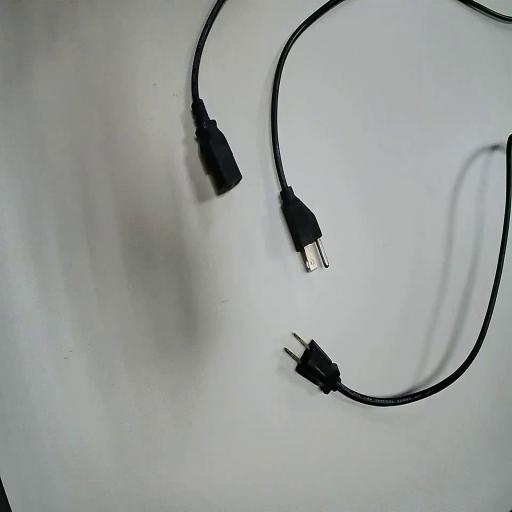wire: (296, 136, 511, 405), (271, 0, 341, 258), (192, 0, 240, 193)
